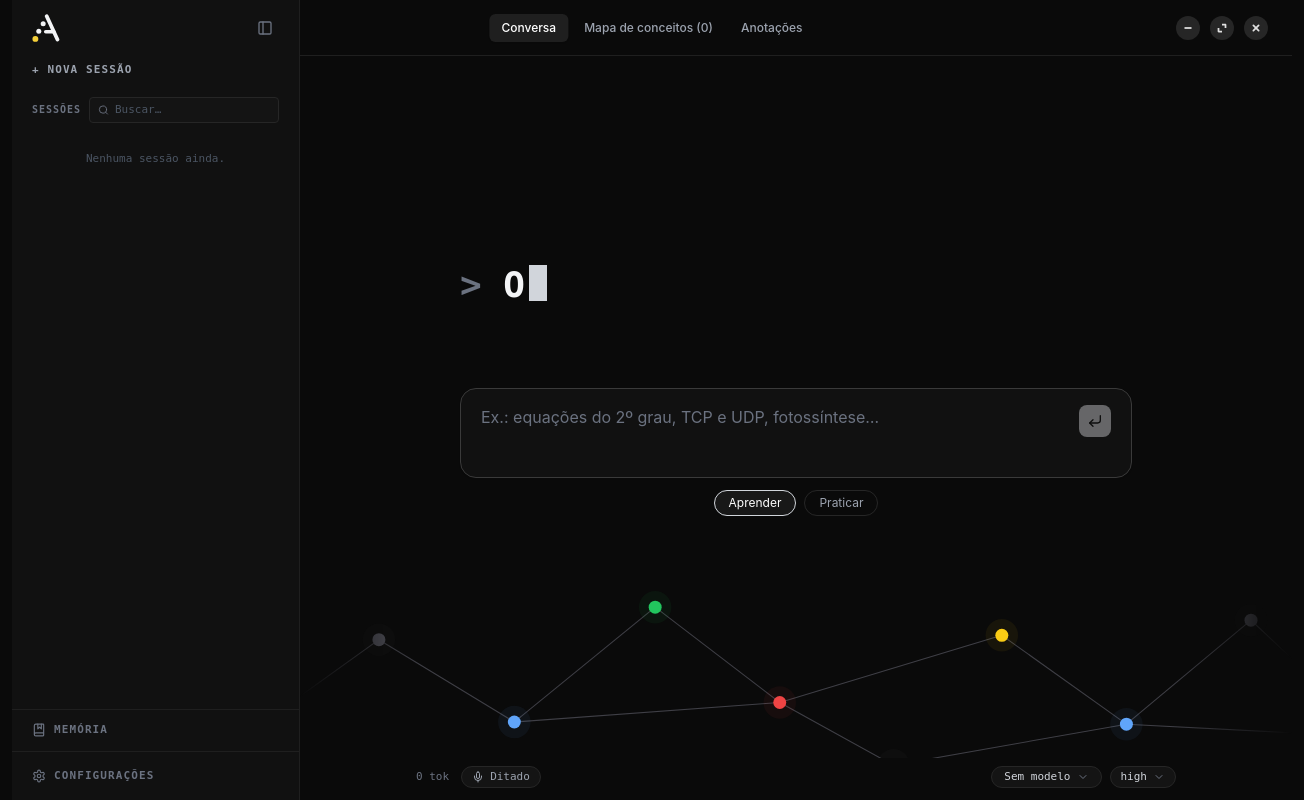
Test: App Session Synchronization, Settings Modal, and Global Dictate › prompts user for goal on + TEACHING click and starts session upon input submission
Note: Click + TEACHING
Click the button "+ Nova sessão" at (82,70), box [24,56,287,84]
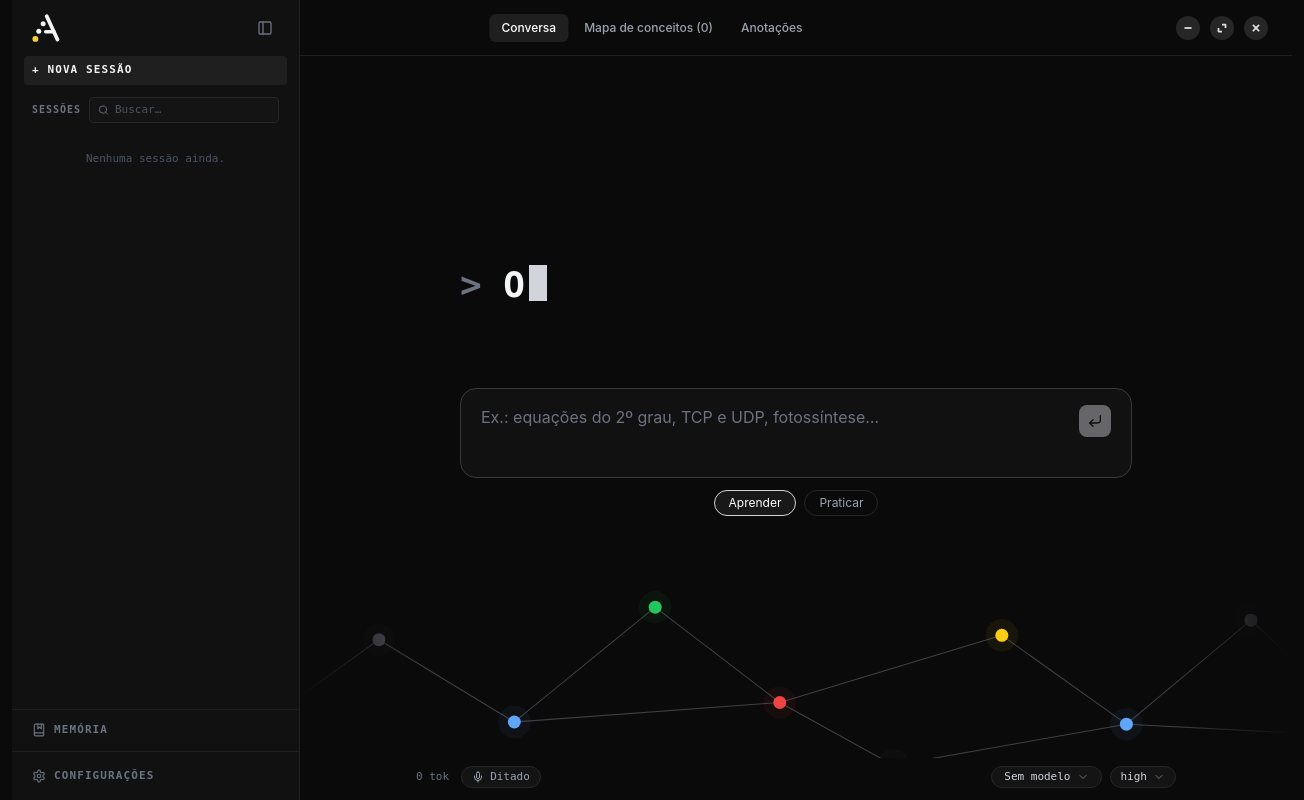
Note: The goal input is displayed
Type "Cálculo Diferencial" into the text box with placeholder "Ex.: equações do 2º grau, TCP e UDP, fotossíntese…" at (776,433), box [481,405,1071,461]
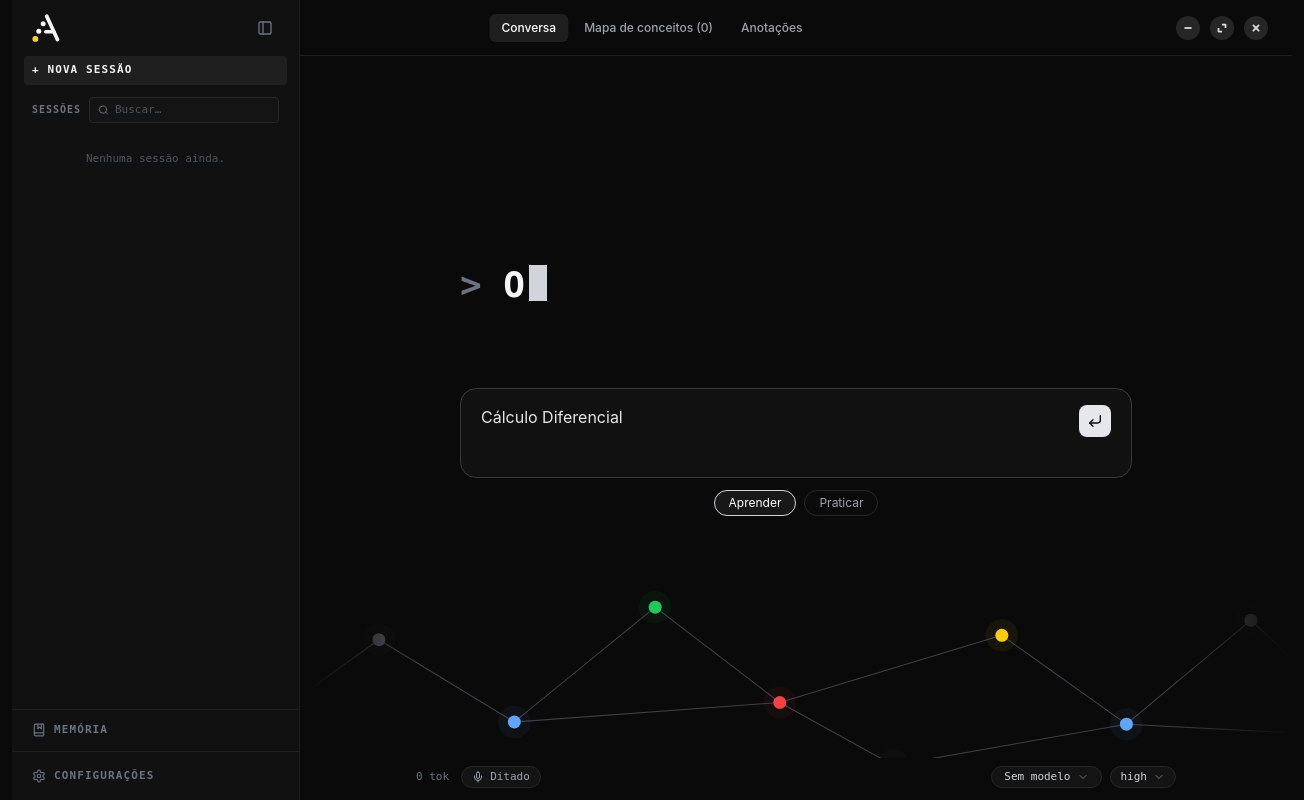
Click the button named "começar" at (1095,421), box [1079,405,1111,437]
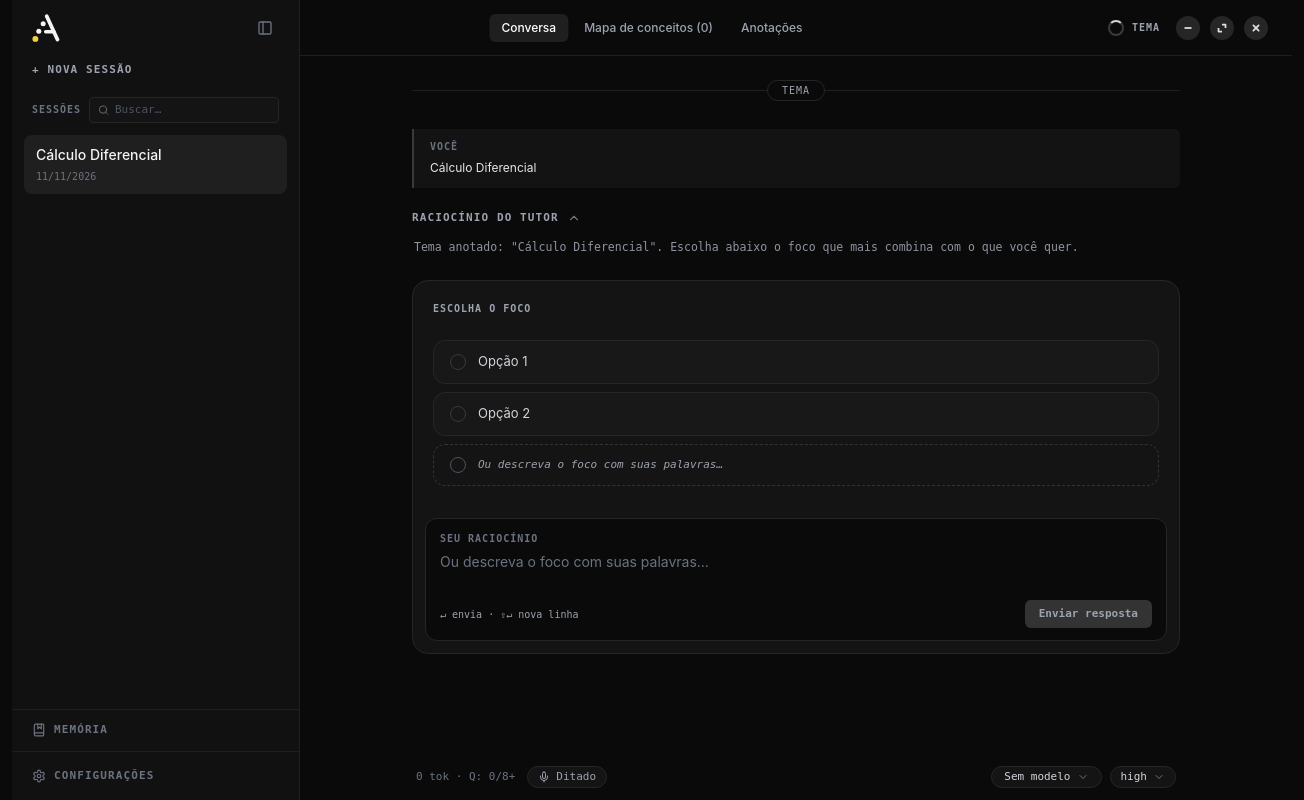
Now the text "Opção 1" is shown, box [478,353,528,371]
